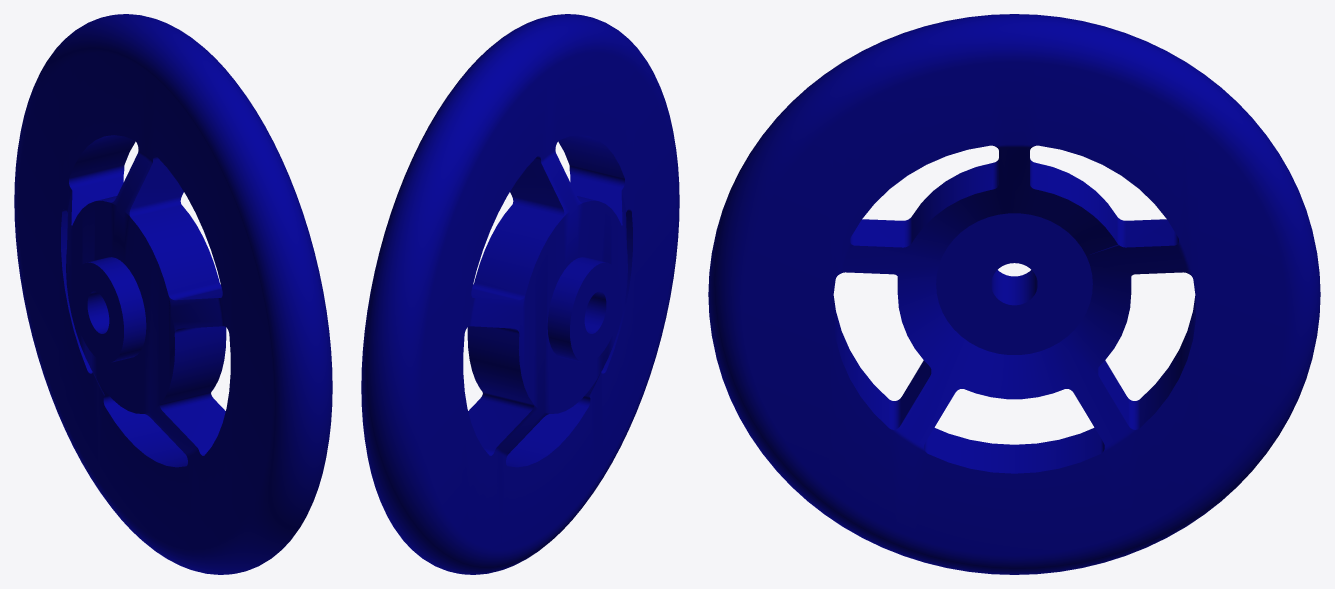
The model's file is valve_wheel.dae.
3 renders of one model, left to right at view 1: azimuth 30°, elevation 25°; view 2: azimuth 150°, elevation 25°; view 3: azimuth 270°, elevation 25°, orthographic. The views are drawn at different scales.
Visible parts, largest first — view 1: skp8251 (×4); view 2: skp8251 (×4); view 3: skp8251 (×3).
Part boxes in pixels (left/top/right/bottom): skp8251 (×4): left=14, top=14, right=332, bottom=574; skp8251 (×4): left=361, top=14, right=679, bottom=574; skp8251 (×3): left=708, top=14, right=1320, bottom=574.
Size of the model in its own units: 2.04 by 9.84 by 9.84.
